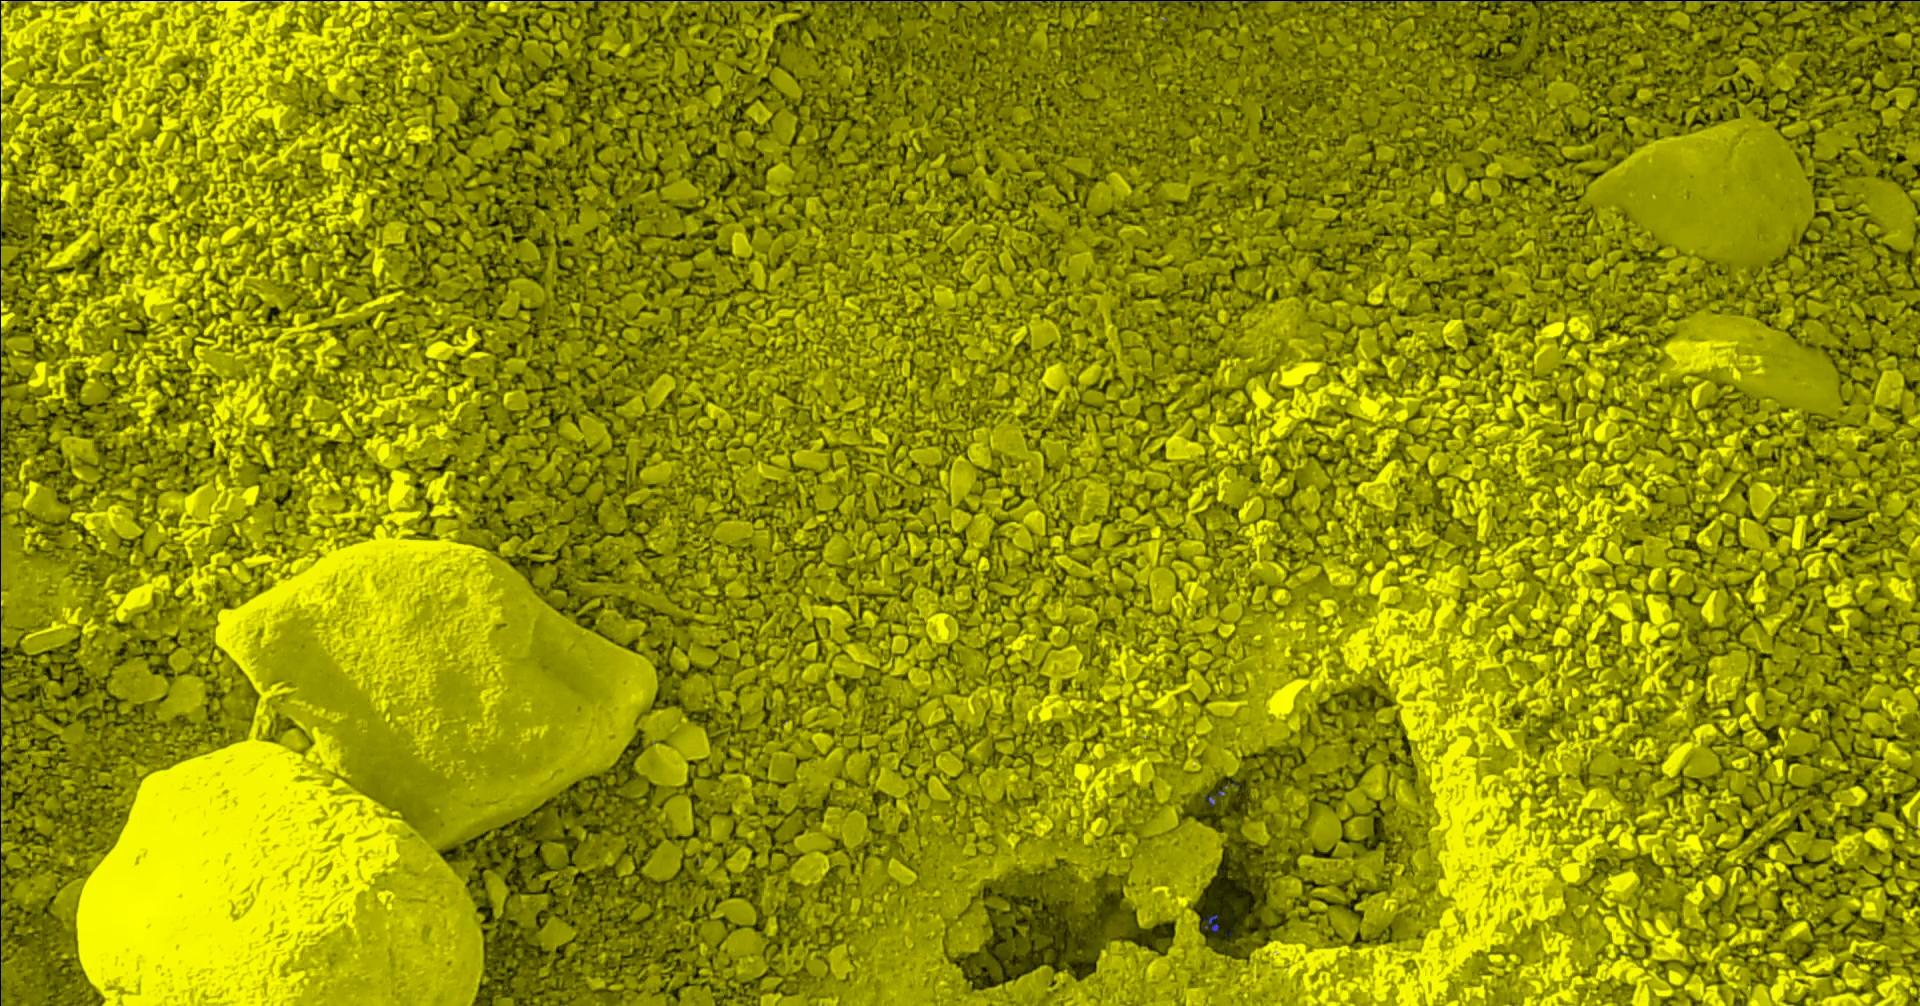ant: (1201, 915, 1218, 931), (1128, 0, 1215, 1), (830, 0, 883, 1)
